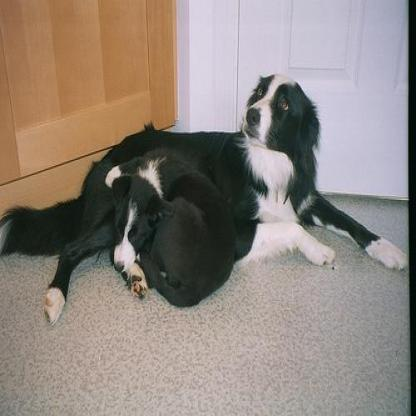Border_collie: (0, 70, 409, 330)
